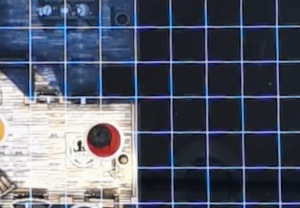red: (78, 116, 130, 163)
yellow: (0, 111, 13, 146)
